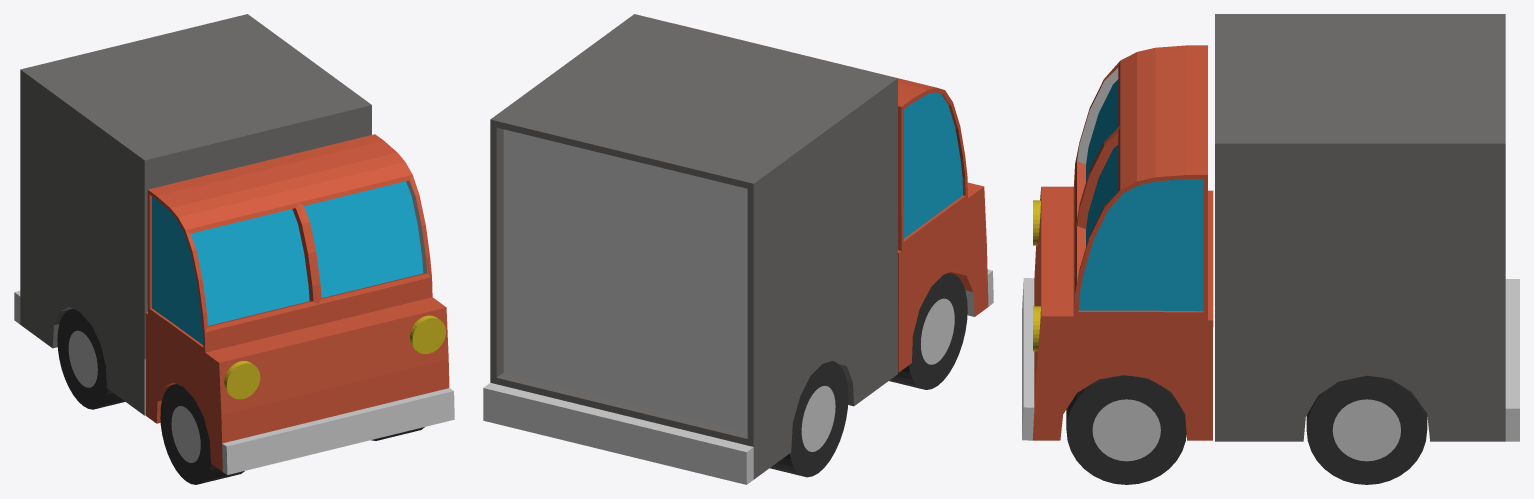
The model's file is box_truck.fbx.
The picture shows the model from 3 angles, left to right: view 1: azimuth 30°, elevation 25°; view 2: azimuth 150°, elevation 25°; view 3: azimuth 270°, elevation 25°; orthographic projection. The views are drawn at different scales.
Parts seen in each view (by area): view 1: Vehicle Chassis, Windows, Wheels, Headlights; view 2: Vehicle Chassis, Rear Shutter, Wheels, Windows; view 3: Vehicle Chassis, Wheels, Windows, Headlights.
Part boxes in pixels (x1,y1,x2,y2): Vehicle Chassis: (14,14,454,474); Windows: (152,181,423,344); Wheels: (57,309,424,484); Headlights: (224,315,445,399); Vehicle Chassis: (483,14,993,484); Rear Shutter: (503,129,747,431); Wheels: (770,273,967,477); Windows: (903,92,962,238); Vehicle Chassis: (1022,14,1519,441); Wheels: (1066,375,1427,484); Windows: (1078,79,1203,311); Headlights: (1033,200,1040,351).
Bounding box in the file's own units: 600 × 741 × 975.
